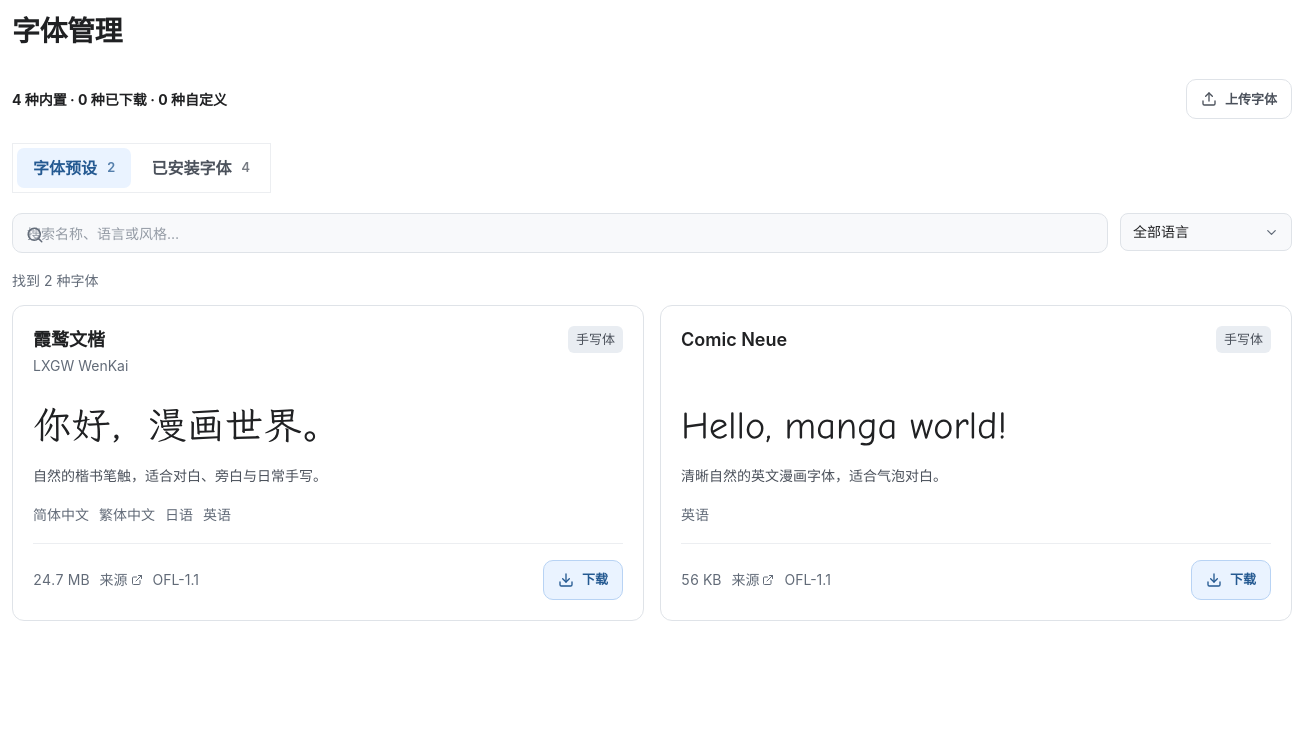
Scenario: font library › omits explanatory copy in zh-CN while retaining font information and empty-search actions
Check: the element "Comic Neue" is shown, box [660,305,1292,621]
Check: the element "Comic Neue" shows "OFL-1.1", box [784,568,831,592]
Type "no-matching-font" into the search field at (560, 233), box [12,213,1108,253]
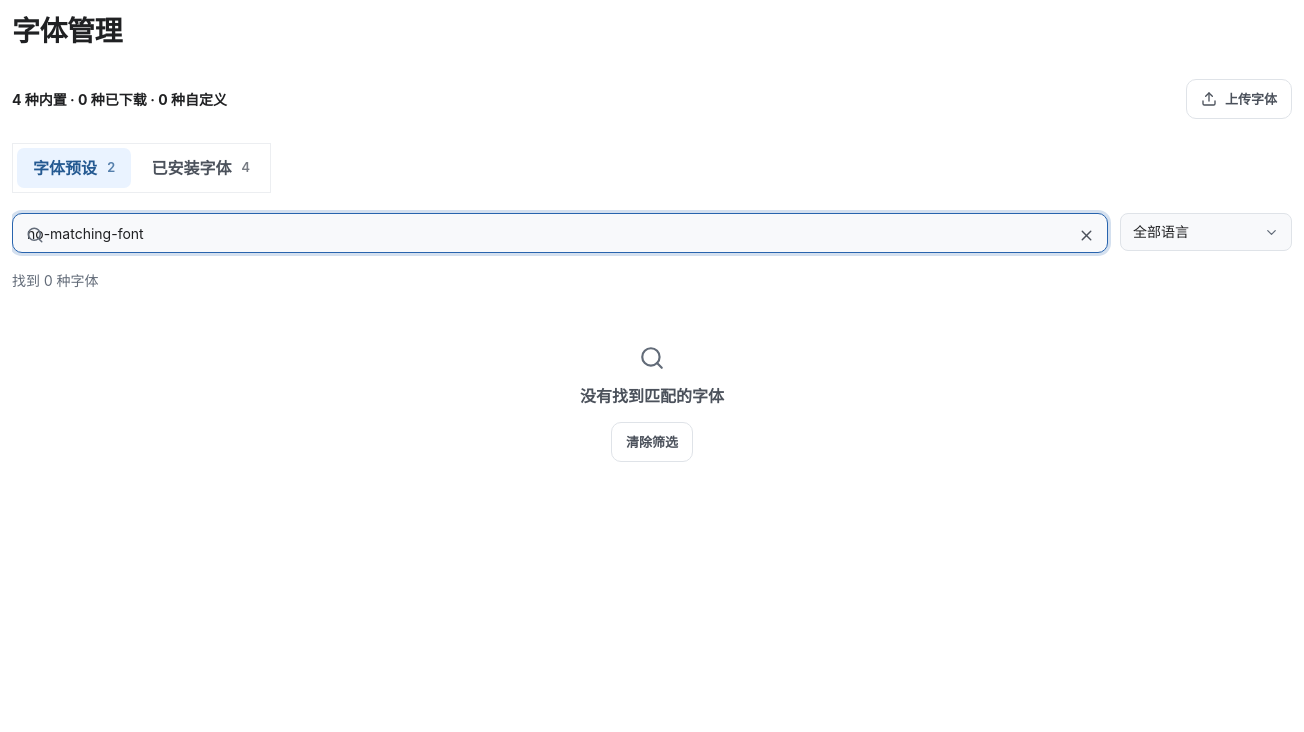
Check: the text "没有找到匹配的字体" is shown, box [580,383,724,410]
Check: the text "自然的楷书笔触，适合对白、旁白与日常手写。" is gone
Click the button "清除筛选" at (652, 442), box [611,422,693,462]
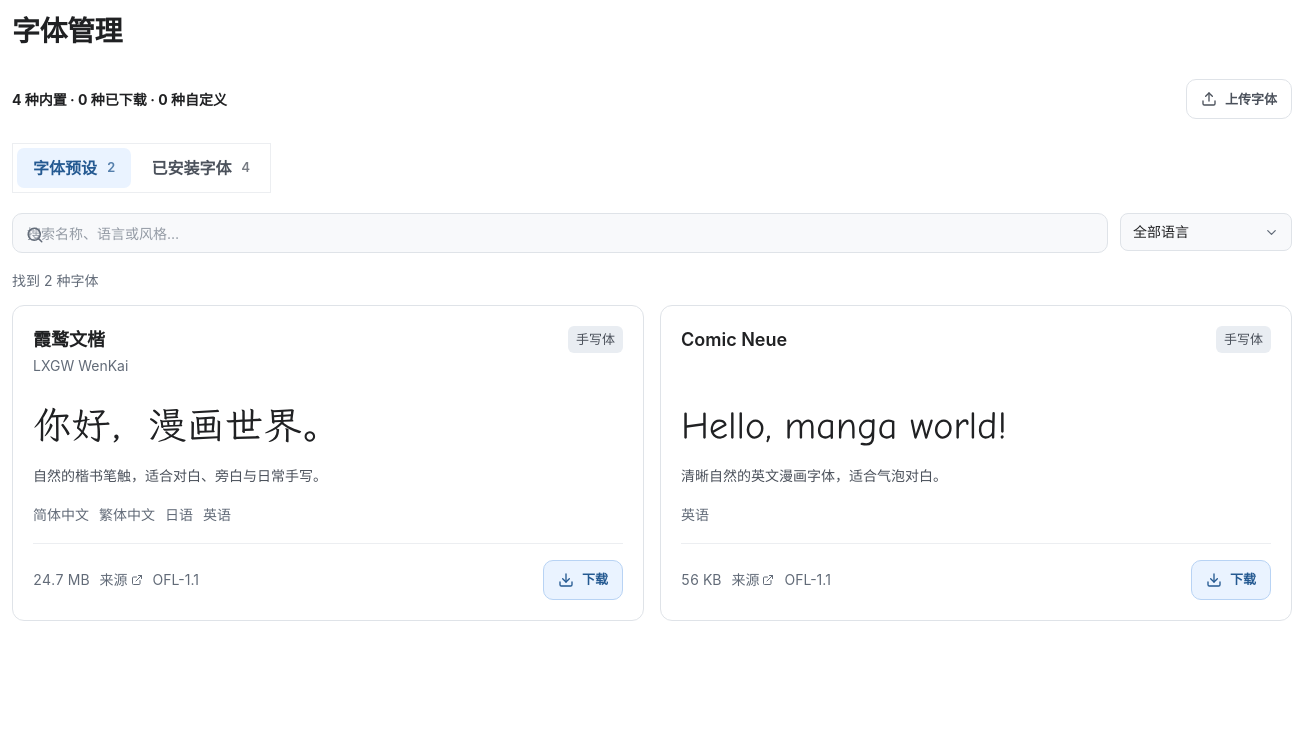
Check: the element "Comic Neue" is shown, box [660,305,1292,621]
